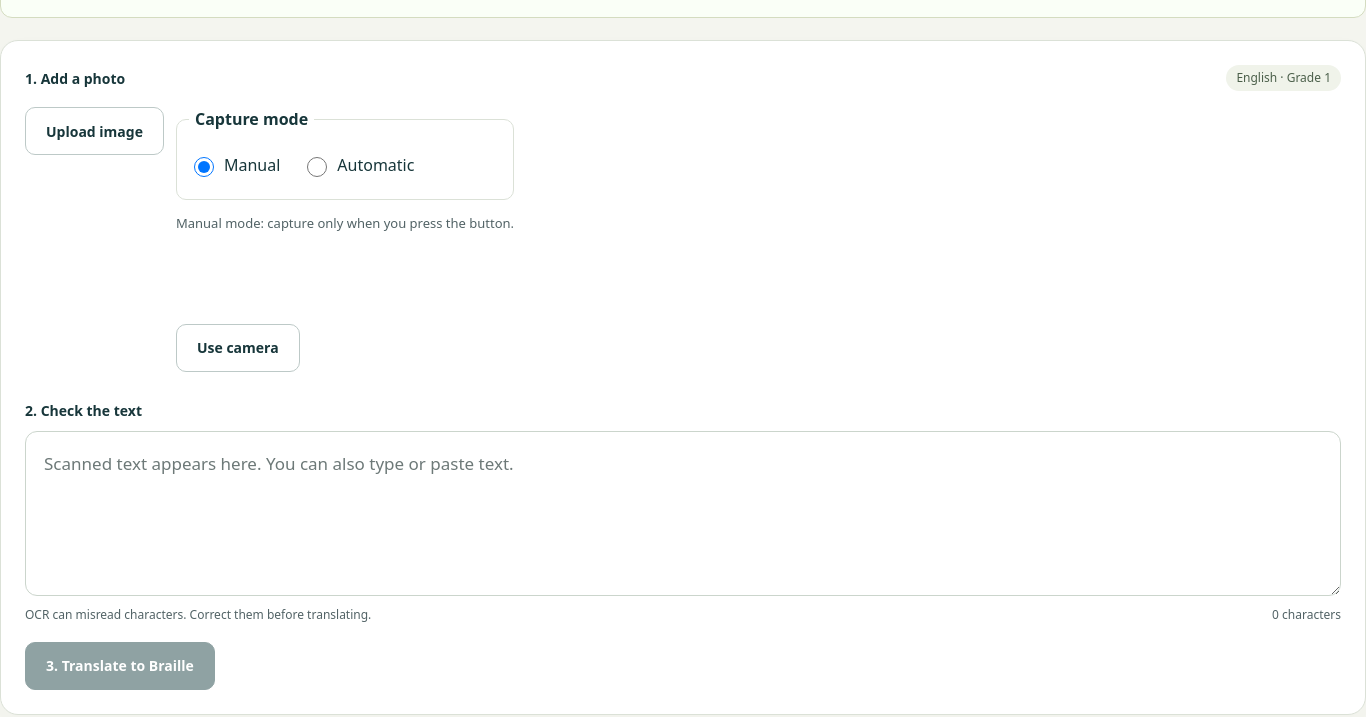
CameraPanel blind-first reporting › pauses, resumes, and reports read-aloud state
This screenshot has width=1366, height=717.
(page scrolled)
Step 1. Type "Hello there" into the text box labelled "2. Check the text" → (683, 514), box [25,431,1341,596]
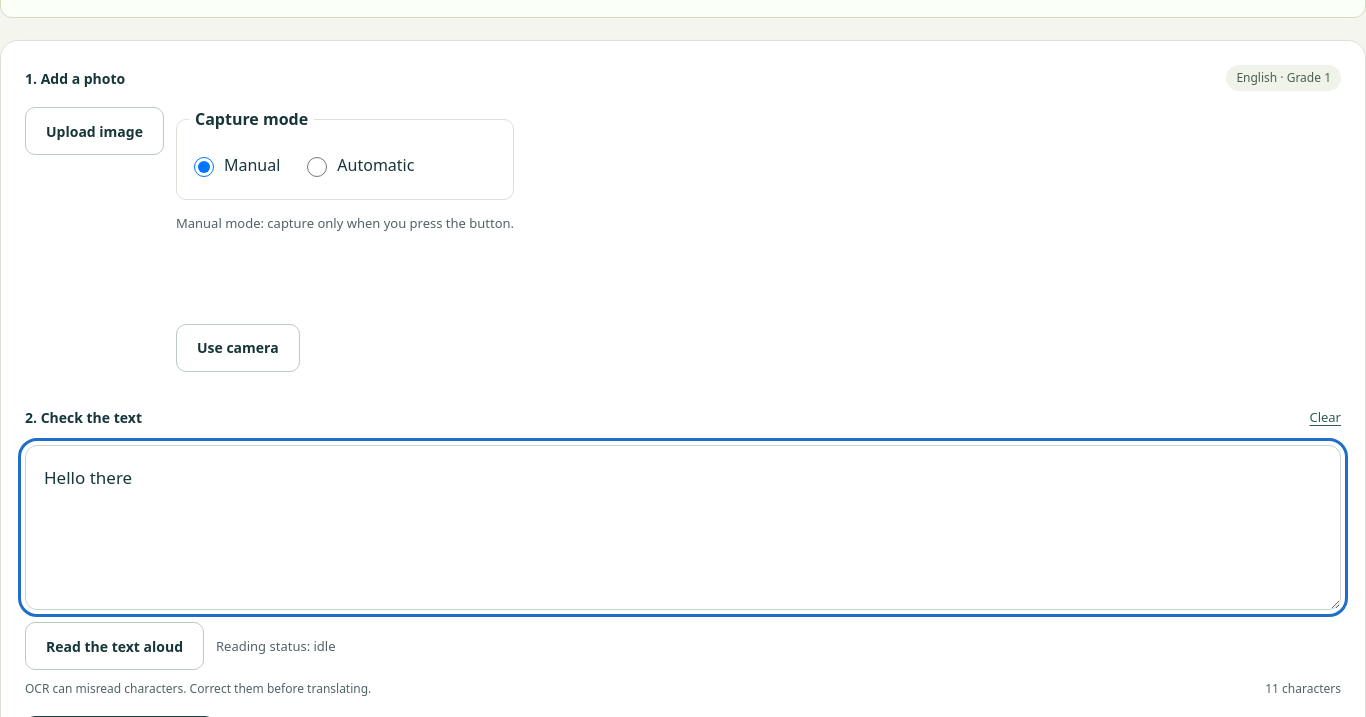
Step 2. Click the button "Read the text aloud" → (114, 646), box [25,622,204,670]
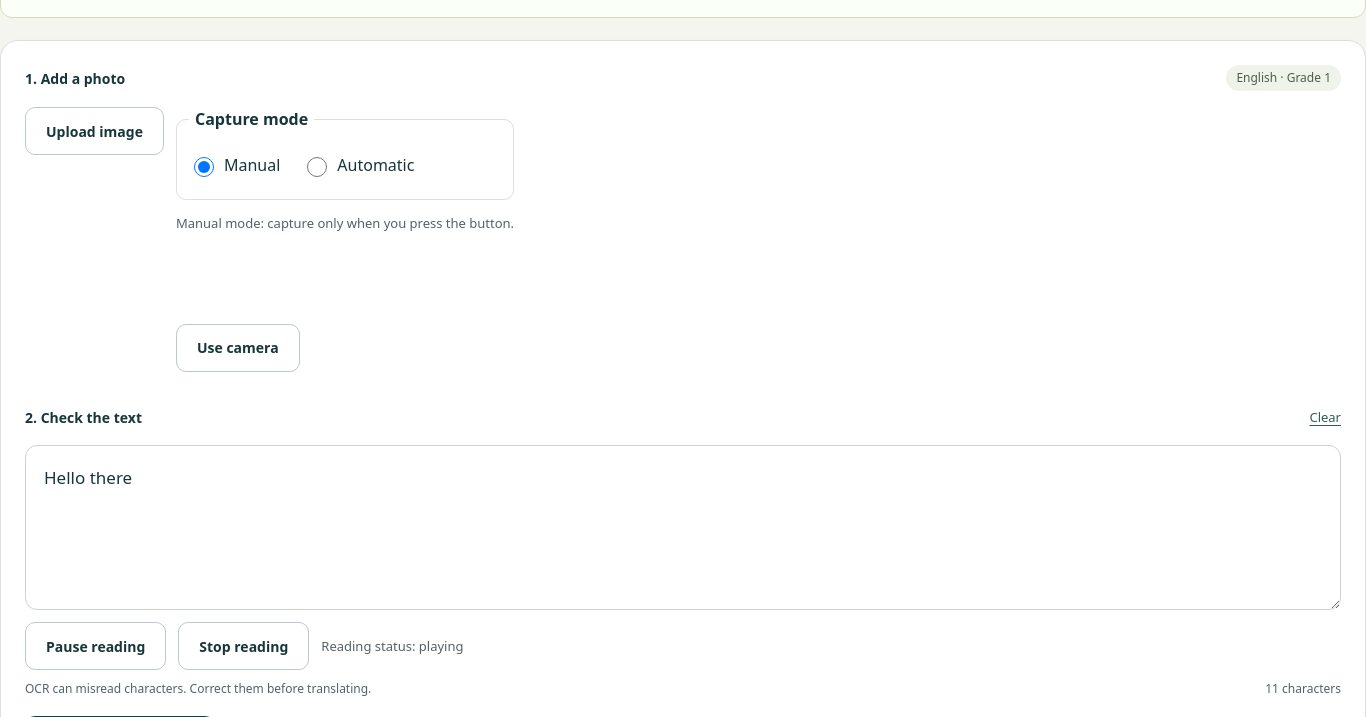
Expected: the text "Reading status: playing" is shown, [321,637,464,656]
Step 3. Click the button "Pause reading" → (96, 646), box [25,622,166,670]
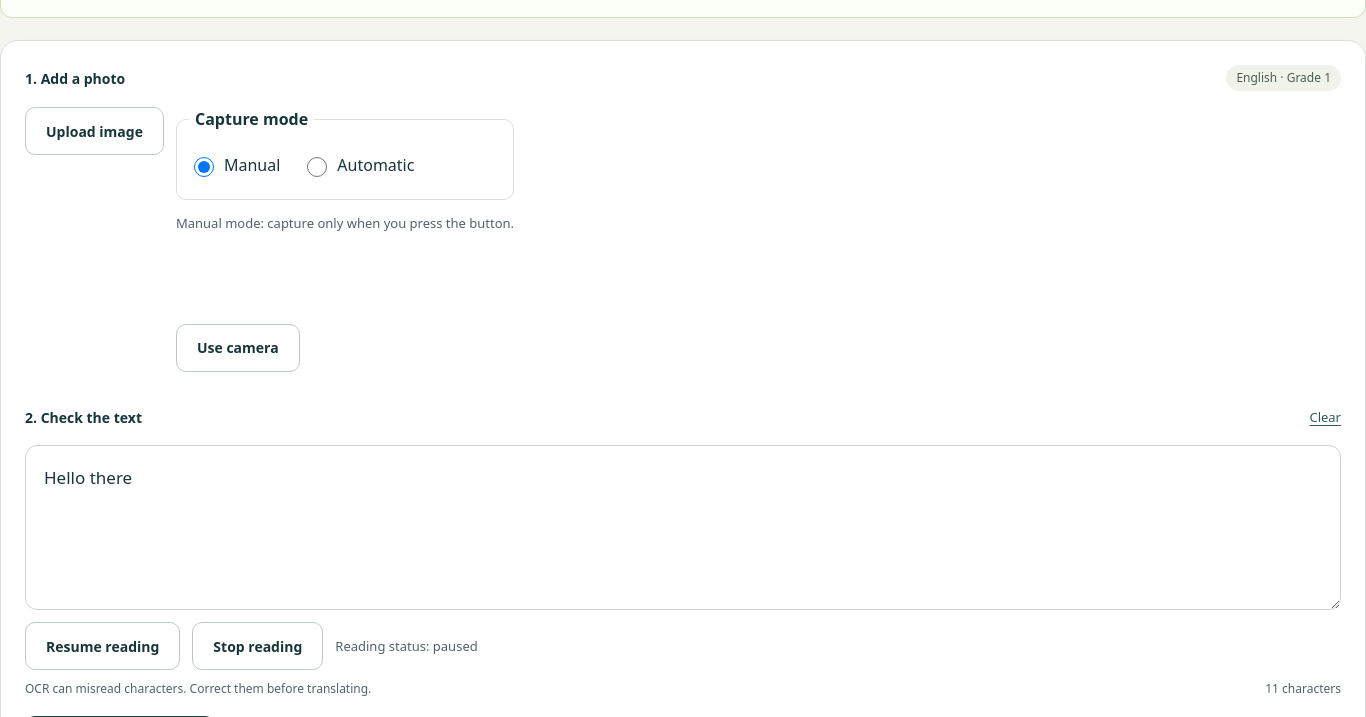
Expected: the text "Reading status: paused" is shown, [335,637,478,656]
Step 4. Click the button "Resume reading" → (103, 646), box [25,622,180,670]
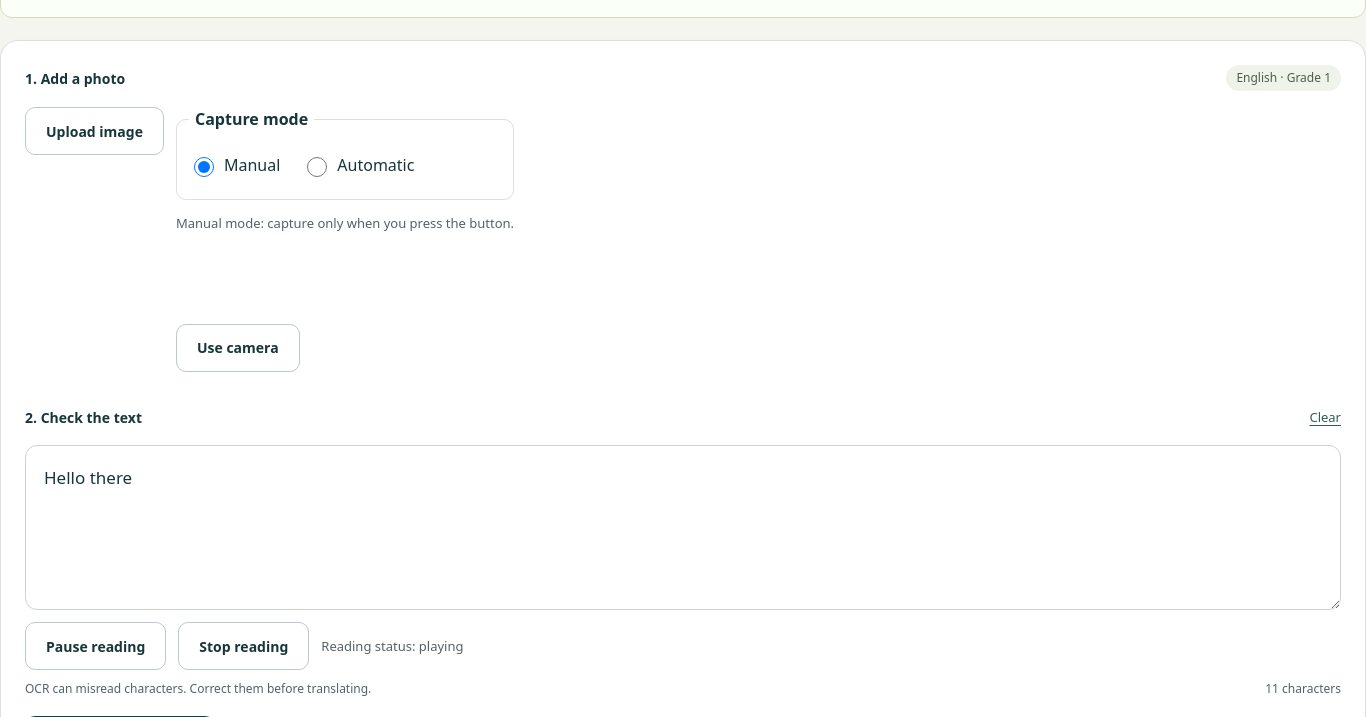
Expected: the text "Reading status: playing" is shown, [321,637,464,656]
